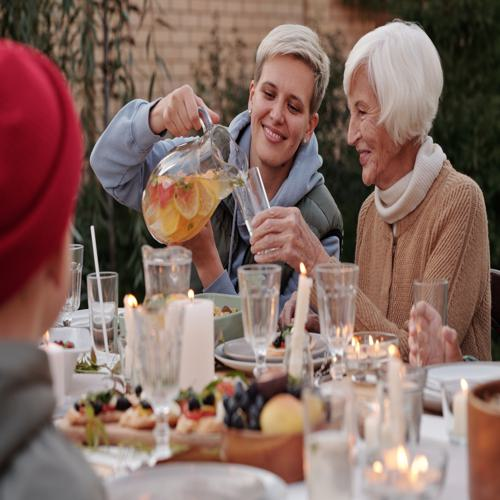copa: (126, 304, 185, 466), (236, 263, 282, 380), (315, 264, 356, 381)
vaso: (411, 274, 452, 370)
